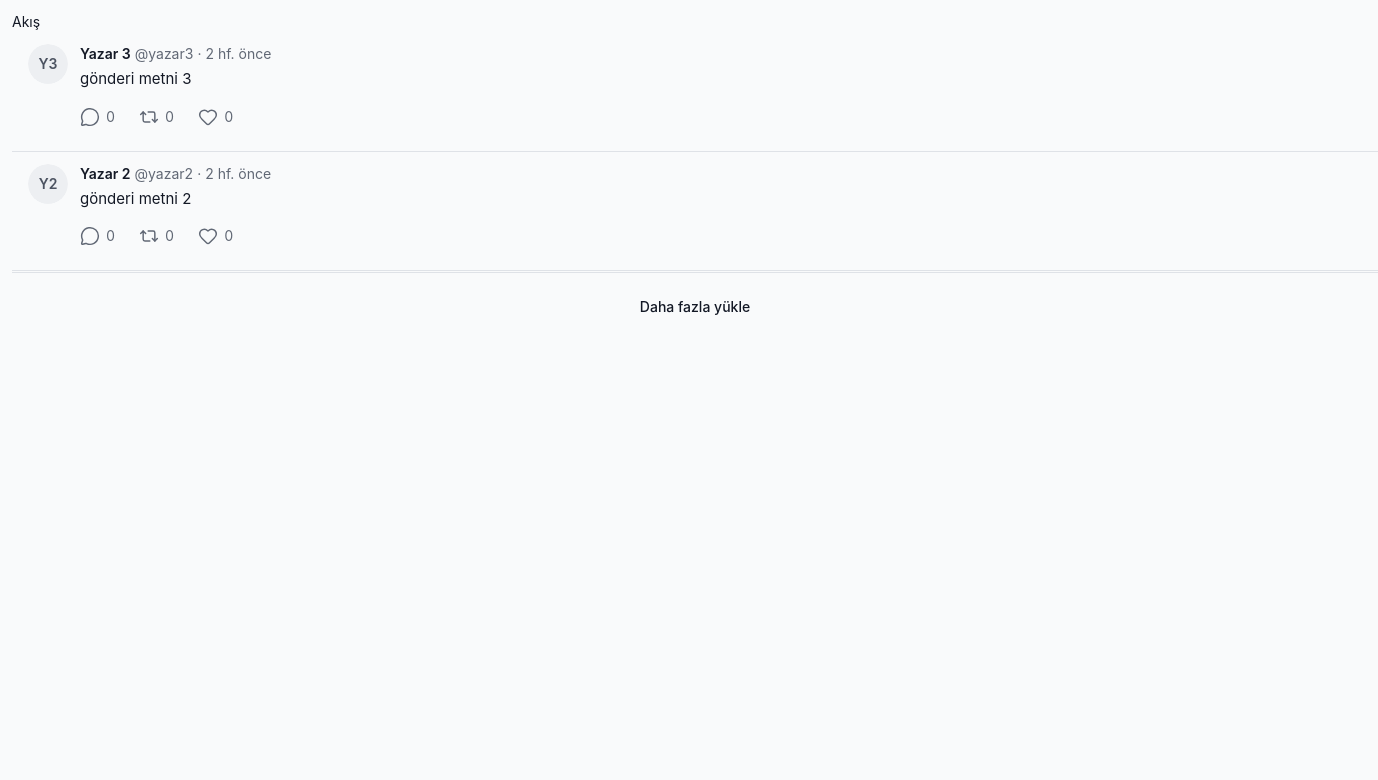
Scenario: FeedList › "N yeni gönderi" tazelemesi başarısız: yüklü sayfalar geri gelir, satır içi hata + toast
The width and height of the screenshot is (1378, 780).
Click the button "Daha fazla yükle" at point(695, 307), box [624, 285, 766, 329]
Wait 1000 ms
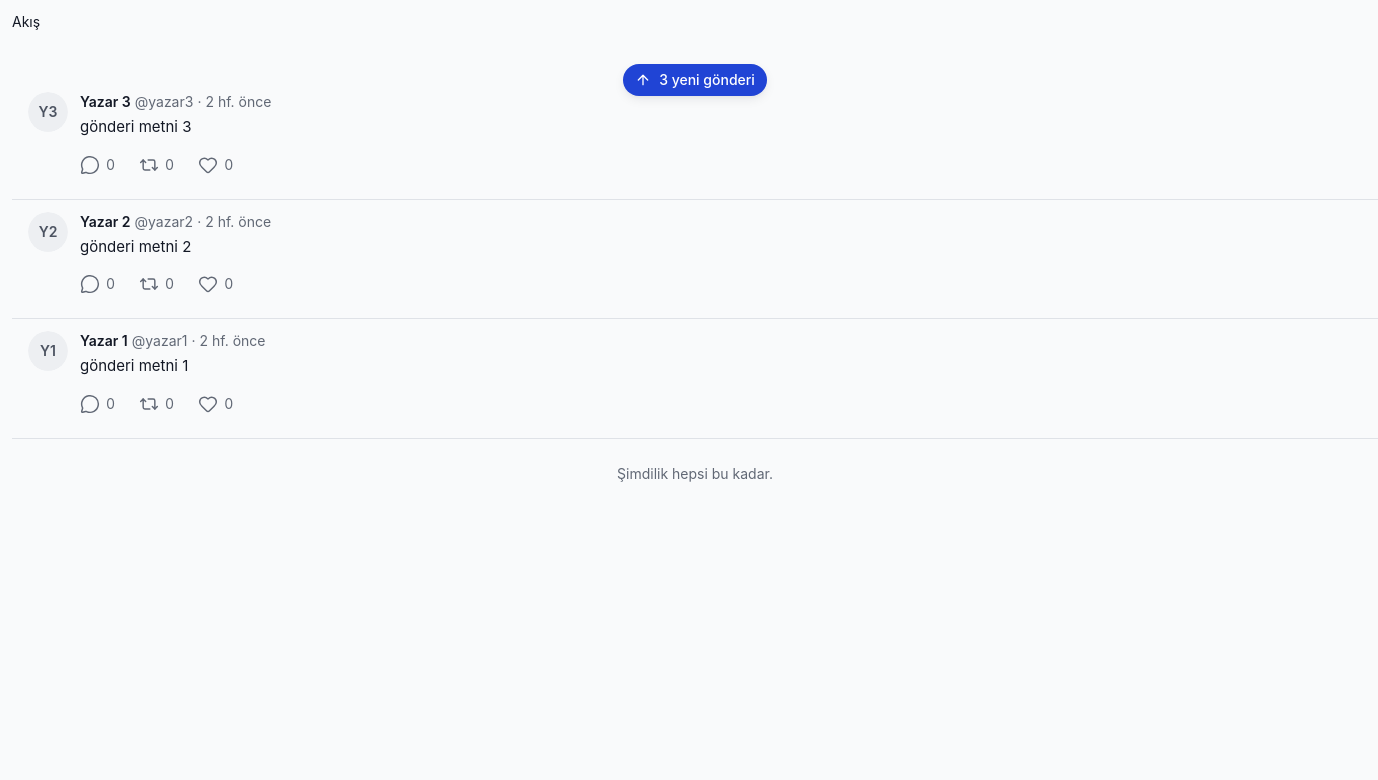
Click the button with test id "feed-new-posts" at point(695, 80), box [623, 64, 767, 96]
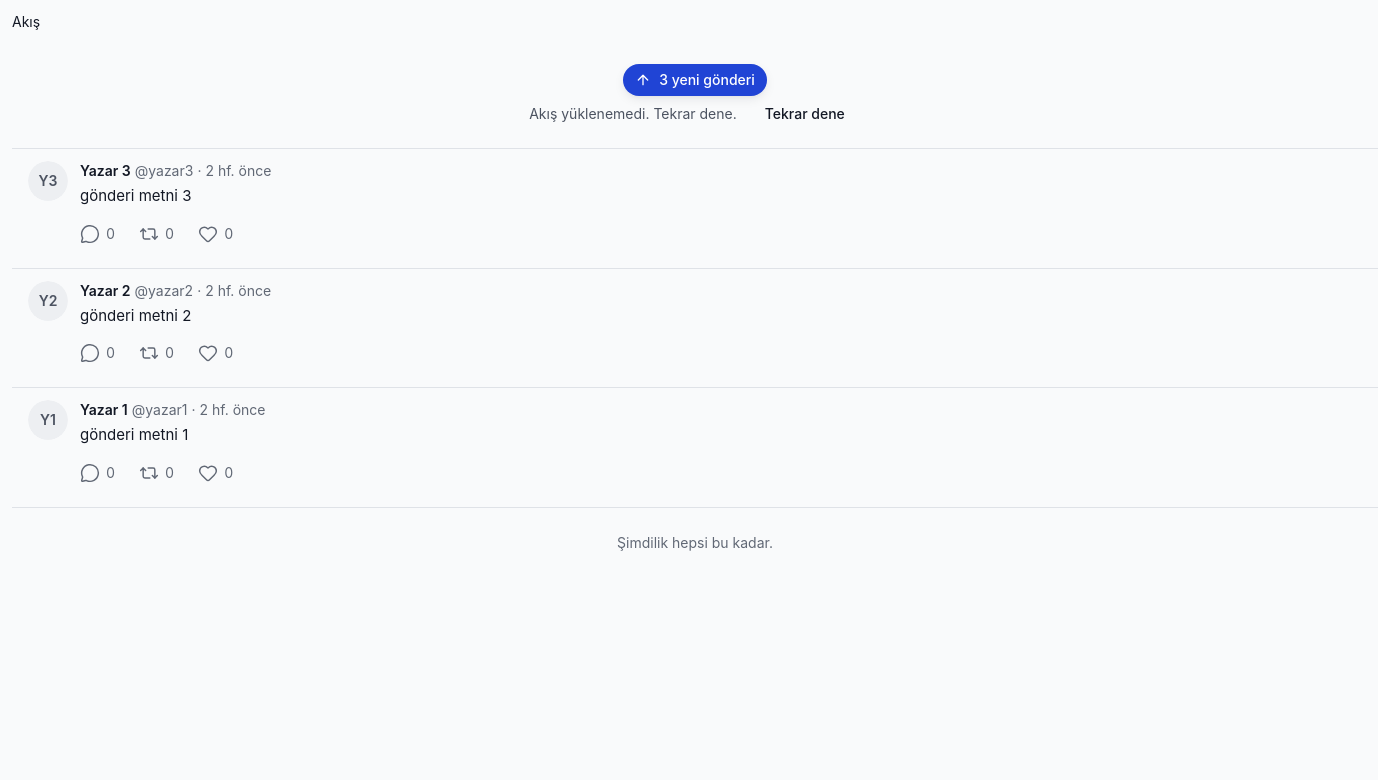
Now the message shows "Akış yüklenemedi. Tekrar dene.", box [529, 105, 737, 122]
Click the button "Tekrar dene" at point(805, 114), box [749, 92, 861, 136]
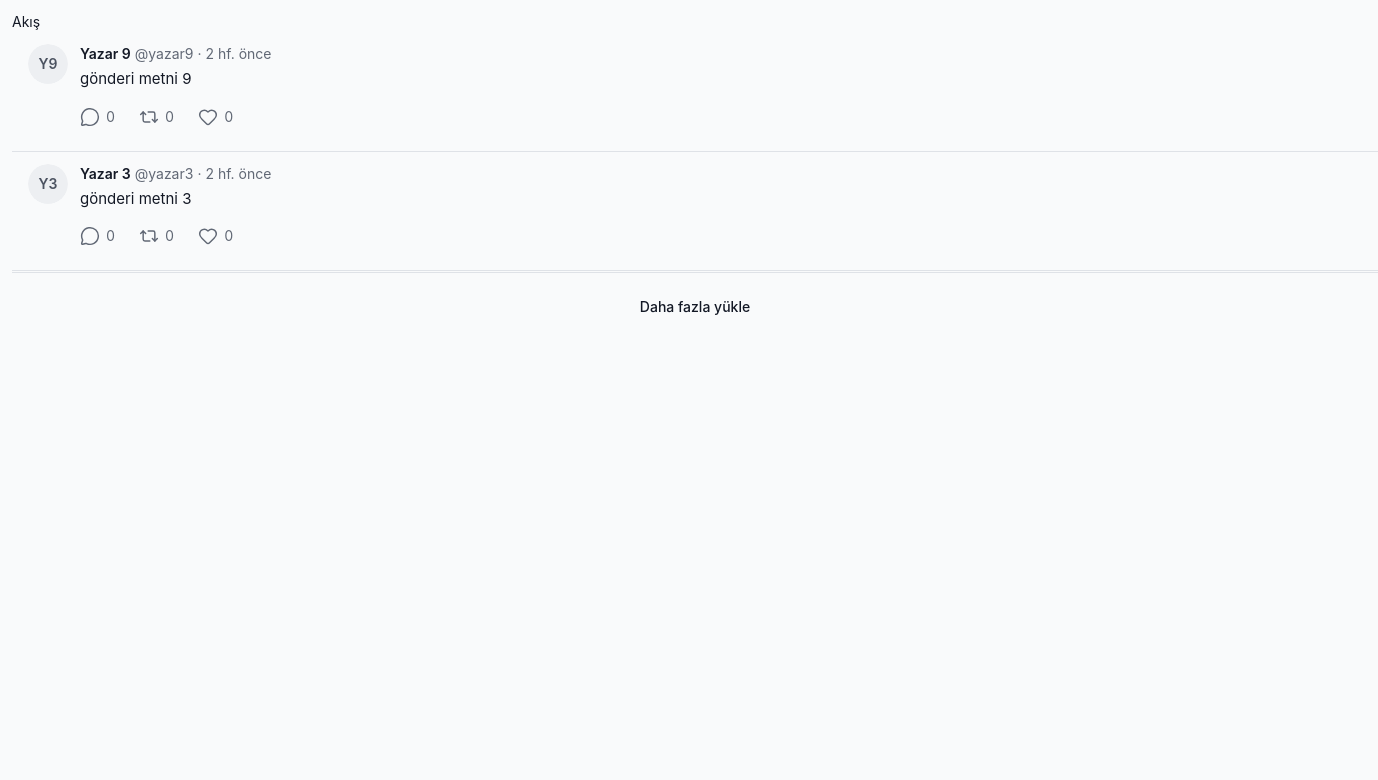
Now the message "Akış yüklenemedi. Tekrar dene. Tekrar dene" is gone
